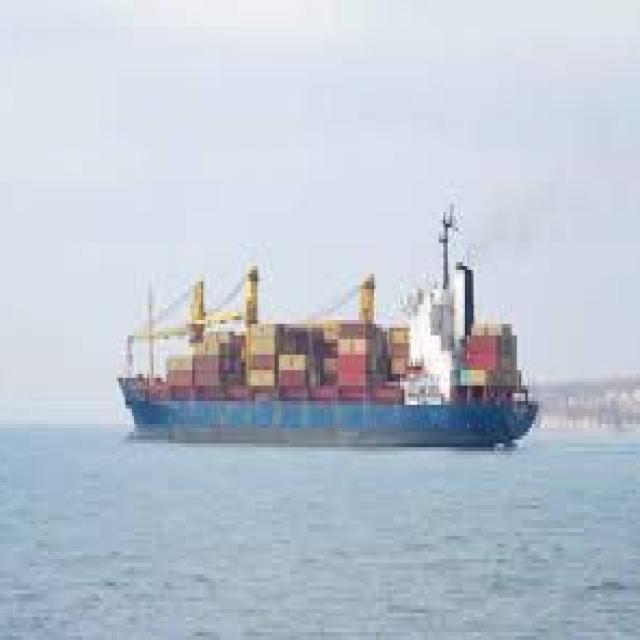houseboat: (113, 210, 537, 456)
